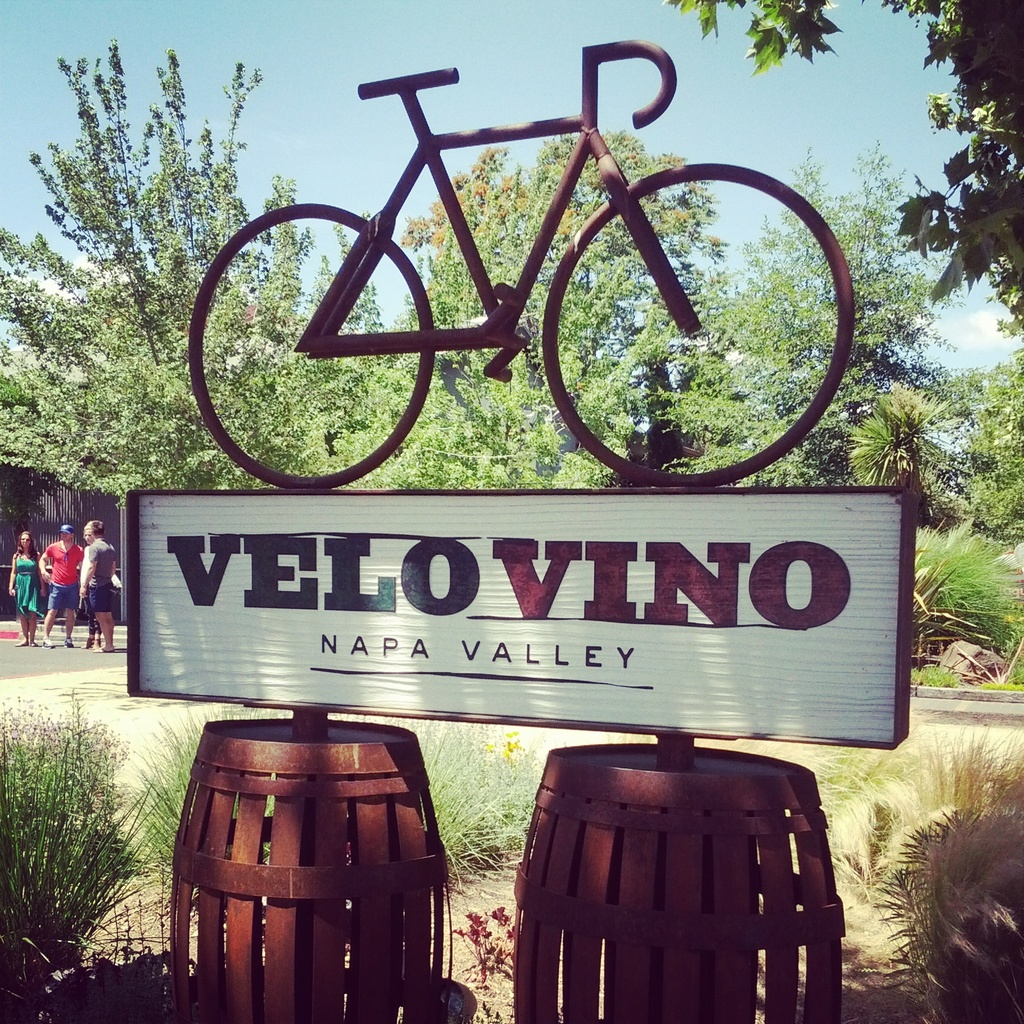Bike_away: (189, 58, 886, 458)
